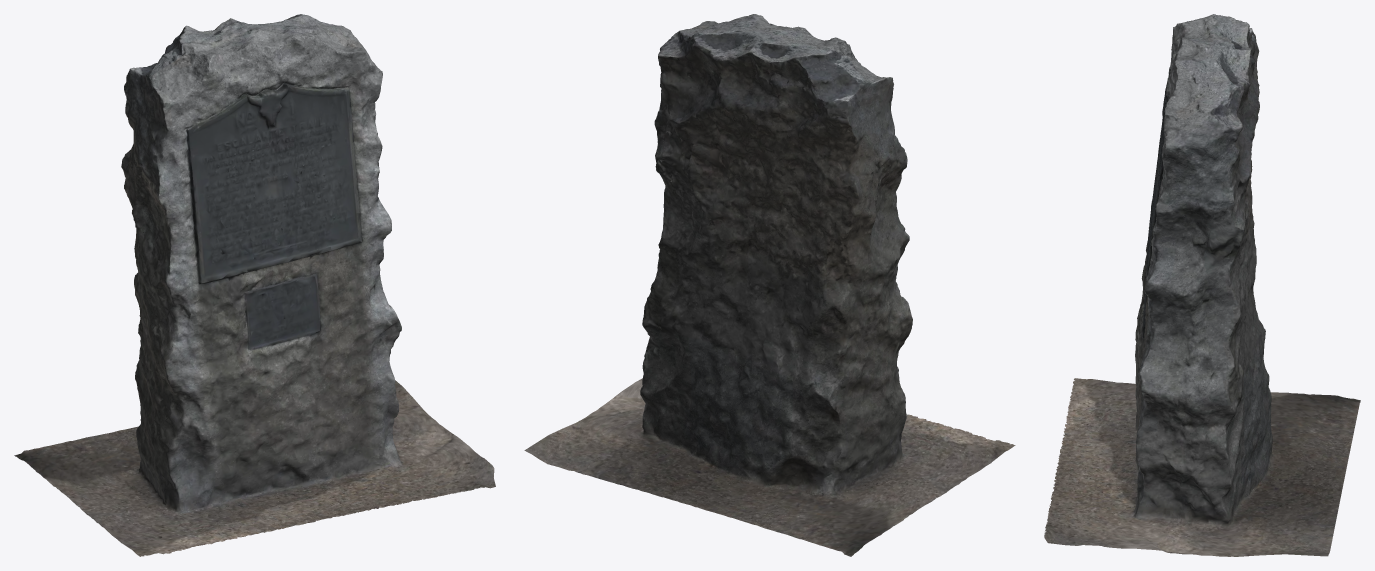
Rendered from marker.glb.
3 views of the same model, side by side, from view 1: azimuth 30°, elevation 25°; view 2: azimuth 150°, elevation 25°; view 3: azimuth 270°, elevation 25° (orthographic). The views are drawn at different scales.
Parts seen in each view (by area): view 1: Object_2; view 2: Object_2; view 3: Object_2.
Part boxes in pixels (bbox=[...]): Object_2: bbox=[14, 14, 495, 556]; Object_2: bbox=[524, 14, 1015, 556]; Object_2: bbox=[1044, 14, 1360, 556].
Size of the model in its own units: 1.24 by 1.41 by 0.9368.
Materials: 1 (1 with a texture image).
